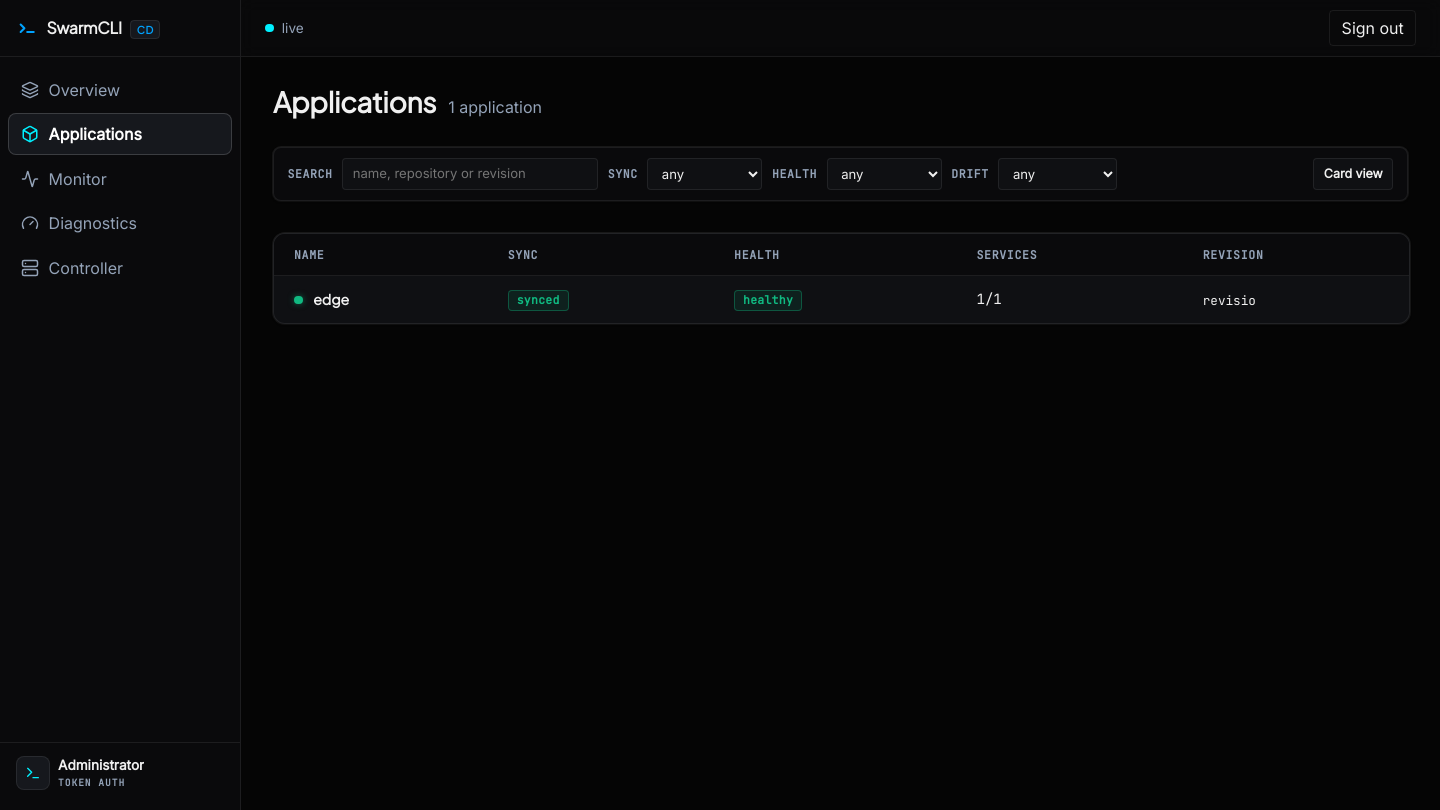
Test: the monitor › offers the log console for the services an application actually reports
The image size is (1440, 810).
Expected: the text "1 application" is shown, top-left (448, 95), bottom-right (542, 119)
Click the link "Monitor" at (64, 179), box top-left (21, 169), bottom-right (107, 189)
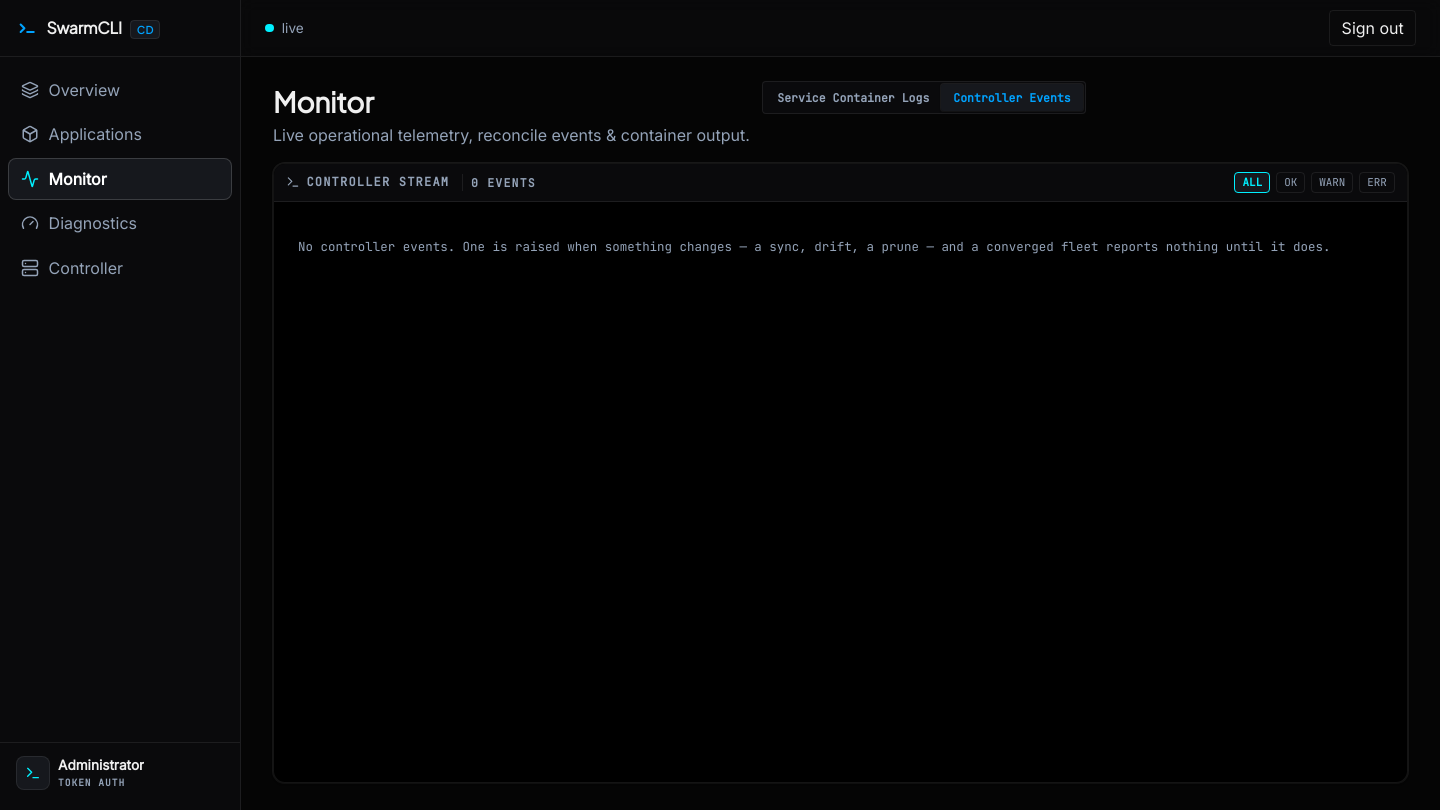
Now the heading "Monitor" is shown, box top-left (273, 84), bottom-right (373, 119)
Click the button "Service Container Logs" at (853, 98), box top-left (765, 84), bottom-right (941, 111)
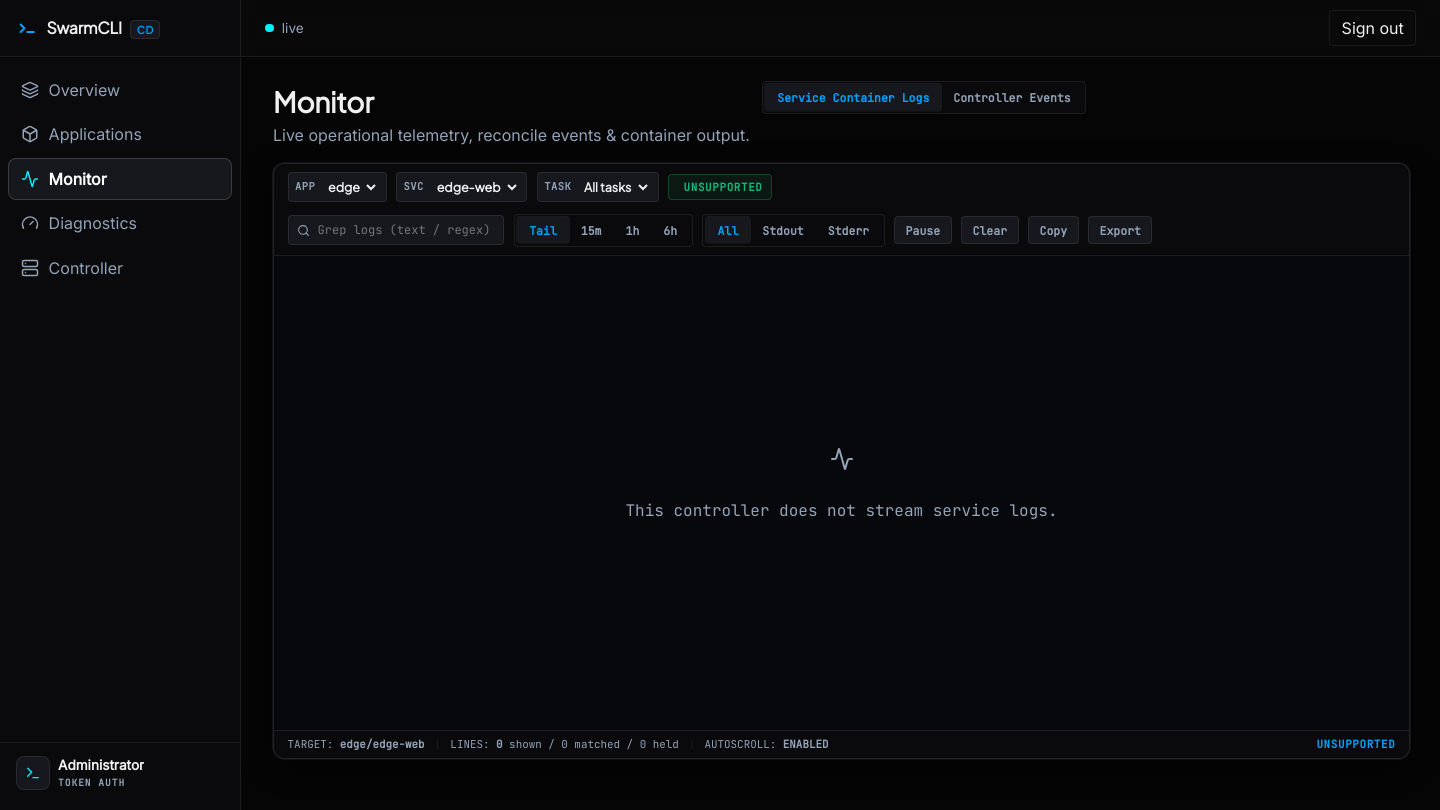
Now the text "APP" is shown, box top-left (295, 179), bottom-right (315, 193)
Now the text "SVC" is shown, box top-left (404, 179), bottom-right (424, 193)
Now the text "This controller does not stream service logs." is shown, box top-left (626, 498), bottom-right (1058, 522)
